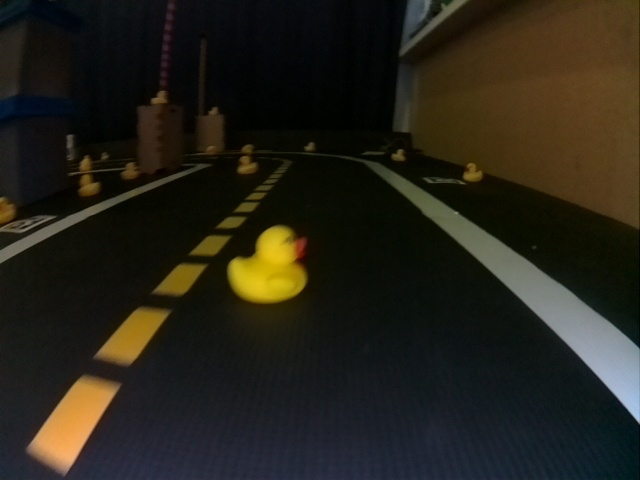Duckie: (230, 228, 303, 297), (463, 162, 482, 182), (80, 176, 100, 194), (2, 198, 16, 223), (237, 157, 258, 172), (122, 164, 139, 178), (151, 90, 165, 104), (391, 149, 405, 161), (241, 144, 251, 154), (305, 143, 315, 151), (206, 145, 214, 154), (209, 108, 217, 115)
QR code: (2, 216, 51, 232), (425, 175, 464, 184)
